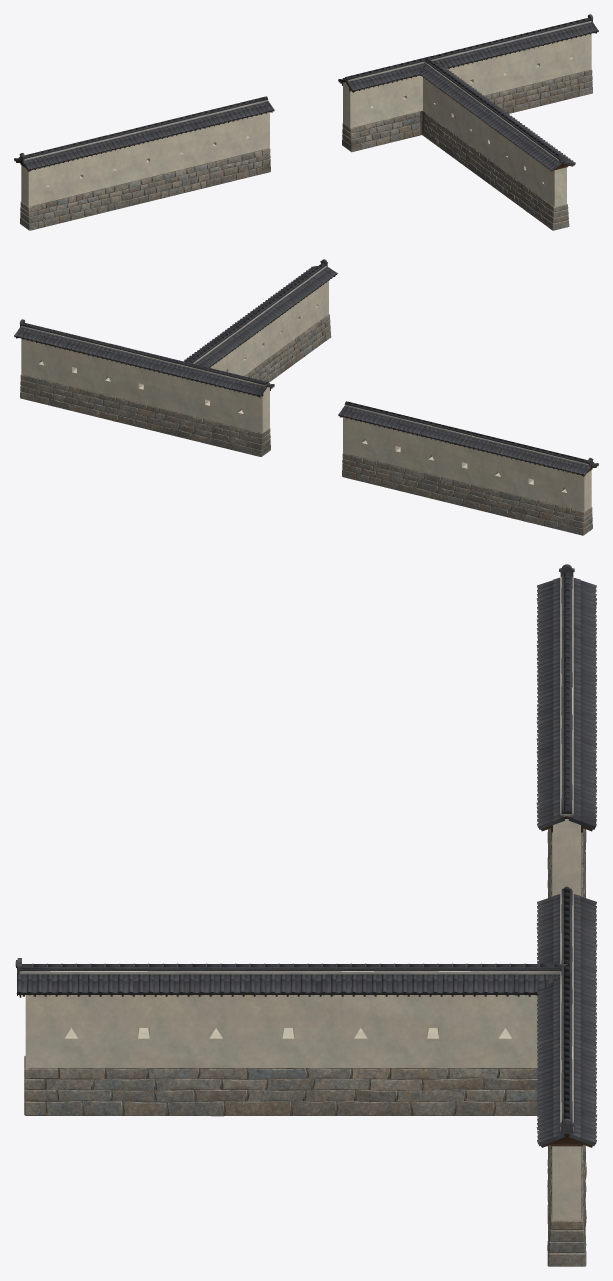
The model's file is walls_v2.glb.
3 views of the same model, one above another, from view 1: azimuth 30°, elevation 25°; view 2: azimuth 150°, elevation 25°; view 3: azimuth 270°, elevation 25° (orthographic). The views are drawn at different scales.
Parts seen in each view (by area): view 1: walls_plaster, walls_stone_ishigaki, walls_tile_ibushi, walls_stone_ishigaki#core, walls_stone_ishigaki#block, walls_plaster_white#menado, walls_tile_ibushi#disc, walls_wood_dark#frame; view 2: walls_plaster, walls_stone_ishigaki, walls_tile_ibushi, walls_stone_ishigaki#core, walls_stone_ishigaki#block, walls_plaster_white#menado, walls_tile_ibushi#disc, walls_wood_dark#frame; view 3: walls_tile_ibushi, walls_plaster, walls_stone_ishigaki, walls_plaster_white#menado, walls_stone_ishigaki#core, walls_stone_ishigaki#block, walls_tile_ibushi#disc.
Boxes of the visible parts, x1,y1,x2,y2 form: walls_plaster: [21, 34, 591, 206]; walls_stone_ishigaki: [38, 72, 584, 227]; walls_tile_ibushi: [14, 14, 597, 171]; walls_stone_ishigaki#core: [30, 70, 589, 228]; walls_stone_ishigaki#block: [20, 69, 592, 230]; walls_plaster_white#menado: [24, 21, 591, 161]; walls_tile_ibushi#disc: [14, 30, 598, 170]; walls_wood_dark#frame: [16, 32, 596, 171]; walls_plaster: [21, 281, 591, 511]; walls_stone_ishigaki: [28, 320, 574, 533]; walls_tile_ibushi: [15, 259, 598, 476]; walls_stone_ishigaki#core: [23, 315, 581, 533]; walls_stone_ishigaki#block: [20, 314, 592, 535]; walls_plaster_white#menado: [21, 266, 588, 465]; walls_tile_ibushi#disc: [14, 267, 598, 475]; walls_wood_dark#frame: [16, 275, 596, 476]; walls_tile_ibushi: [15, 564, 596, 1146]; walls_plaster: [25, 816, 581, 1220]; walls_stone_ishigaki: [45, 828, 586, 1250]; walls_plaster_white#menado: [19, 576, 573, 1131]; walls_stone_ishigaki#core: [30, 832, 581, 1218]; walls_stone_ishigaki#block: [24, 1055, 586, 1266]; walls_tile_ibushi#disc: [16, 585, 597, 1144].
Bounding box in the file's own units: 36.49 × 4.58 × 16.09.
6 materials, 6 textured.
